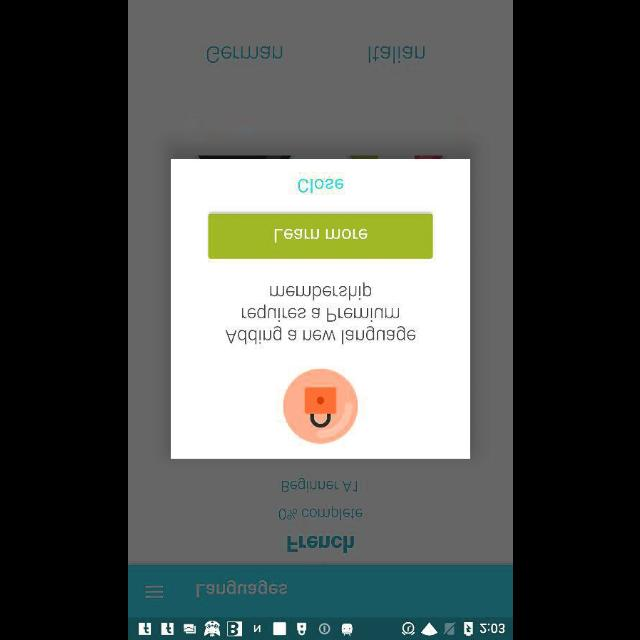icon: (283, 368, 357, 444), (144, 584, 164, 598)
panel: (170, 159, 470, 459)
text: (224, 282, 416, 346), (196, 579, 286, 597), (206, 46, 282, 64), (278, 504, 362, 520), (286, 534, 354, 552), (282, 478, 356, 492), (368, 46, 424, 64), (296, 178, 344, 194)
textbutton: (208, 214, 432, 258)
uppertaskbar: (128, 617, 512, 639)
